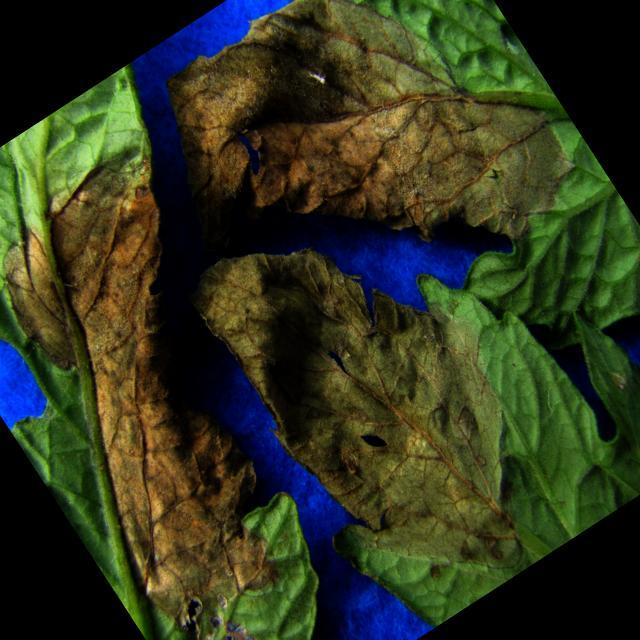Tomato late blight leaf: (0, 65, 473, 640), (152, 94, 640, 640), (117, 0, 640, 483)
